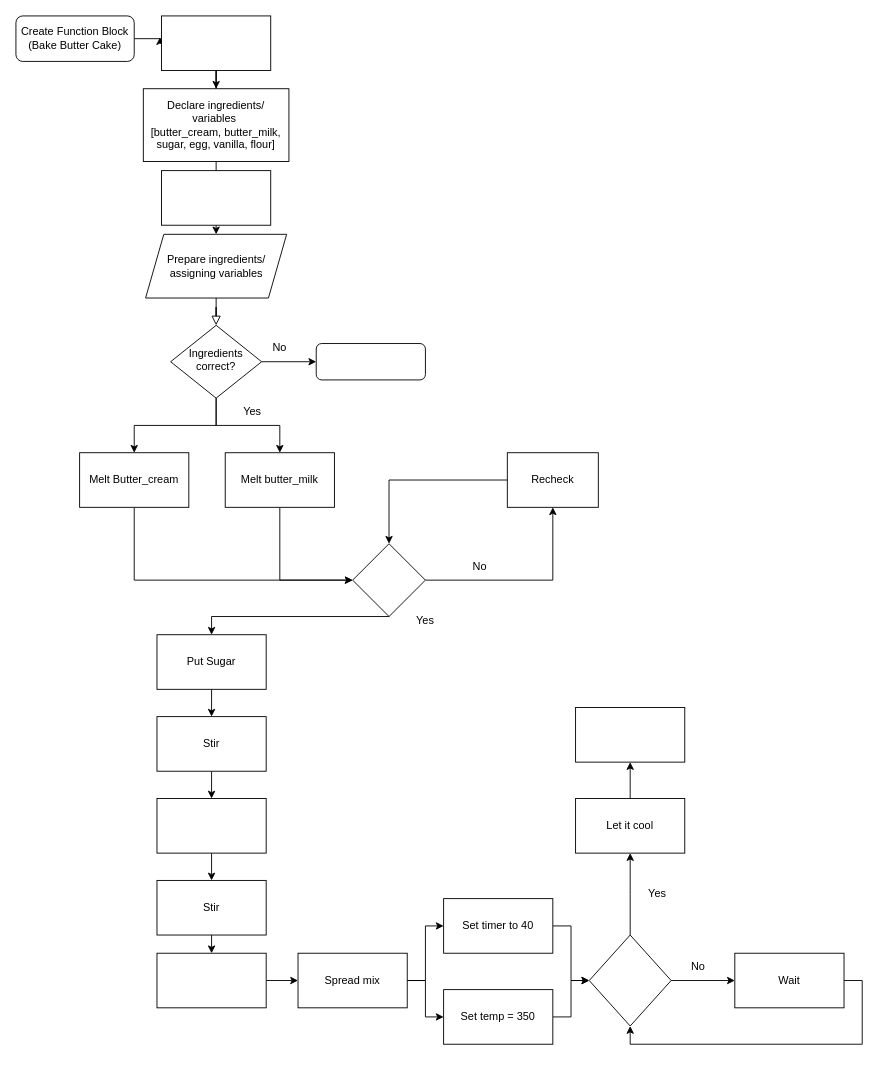
This 885x1067 diagram has some shape labels left out. Here are the shapes that lost their labels. From the top down, the centre of each, then its label:
At [216,43]: "Declare Units (oz, cup, tsp, temp, time)".
At [216,197]: "Declare kitchen utensils (pan, whisk, bowl)".
At [370,361]: "Remeasure".
At [388,580]: "Melted?".
At [630,734]: "Enjoy!".
At [211,825]: "Put eggs and vanilla".
At [211,980]: "Grease pan".
At [629,980]: "Inserted fork comes out?".
